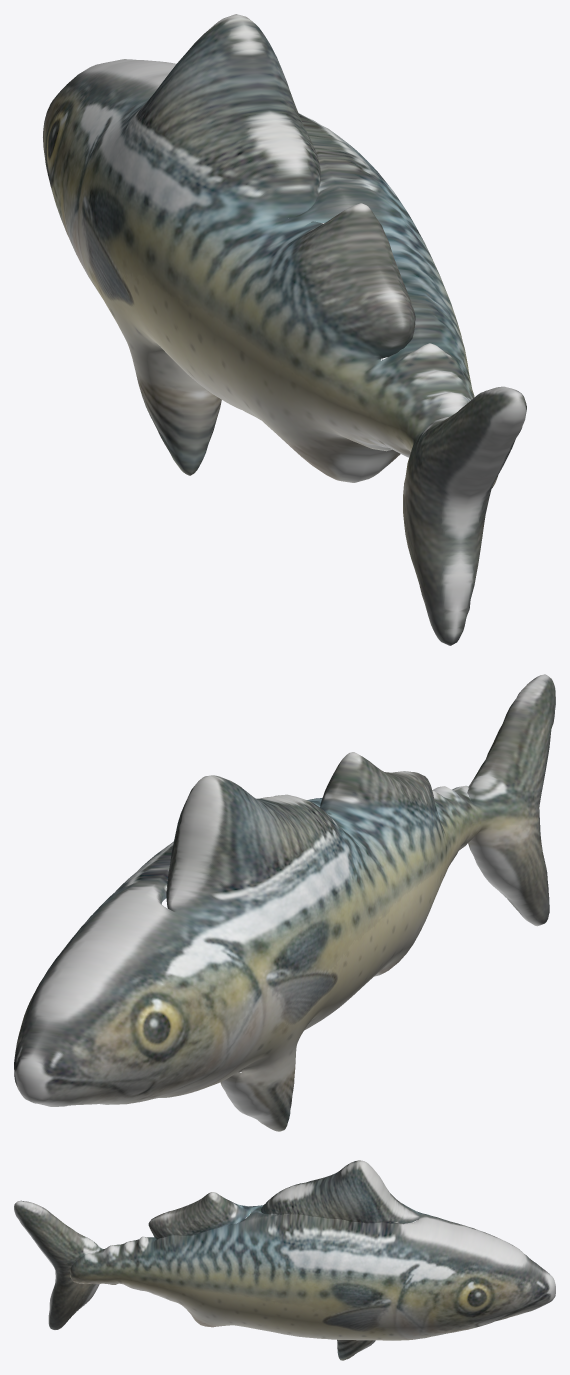
Rendered from A_mackerel.glb.
The picture shows the model from 3 angles, top to bottom: view 1: azimuth 30°, elevation 25°; view 2: azimuth 150°, elevation 25°; view 3: azimuth 270°, elevation 25°; orthographic projection. The views are drawn at different scales.
Visible parts, largest first — view 1: Mesh_0.004; view 2: Mesh_0.004; view 3: Mesh_0.004.
Part boxes in pixels (x1=…): Mesh_0.004: x1=43, y1=14, x2=526, y2=645; Mesh_0.004: x1=14, y1=674, x2=555, y2=1131; Mesh_0.004: x1=14, y1=1160, x2=555, y2=1360.
Bounding box in the file's own units: 2.5 × 4.08 × 9.34.
Materials: 1 (1 with a texture image).
